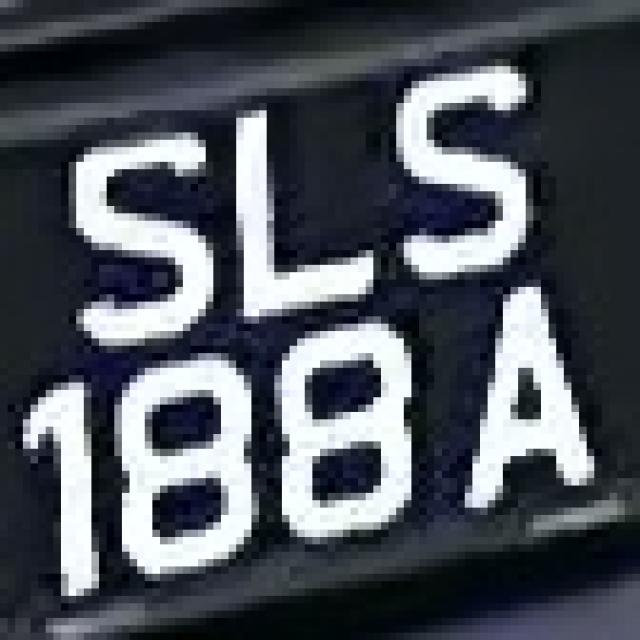1: (38, 360, 99, 610)
8: (259, 324, 450, 552), (107, 338, 274, 574)
A: (450, 265, 617, 515)
L: (214, 88, 388, 324)
S: (53, 118, 221, 353), (366, 66, 556, 272)
